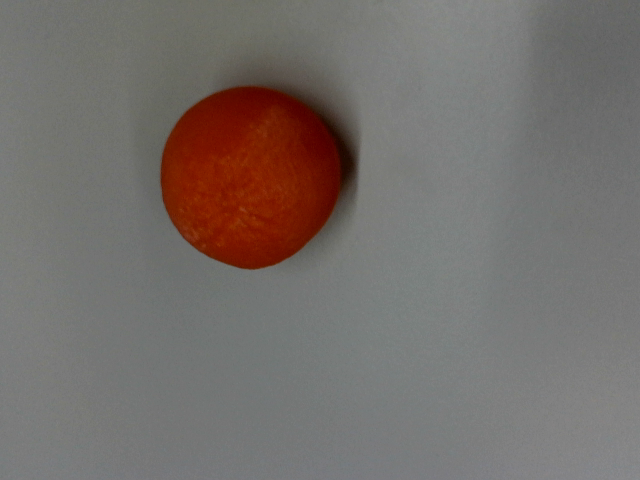orange: (121, 48, 375, 301)
